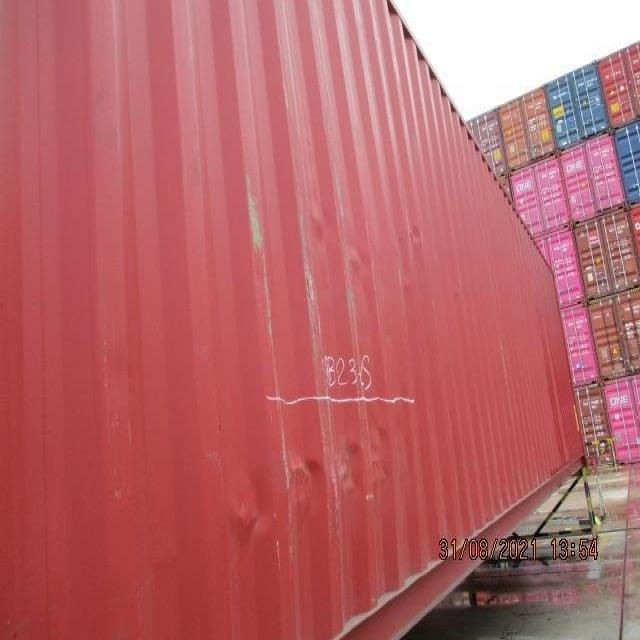Dent: (194, 408, 423, 565)
Minor-Dent: (291, 196, 434, 303)
